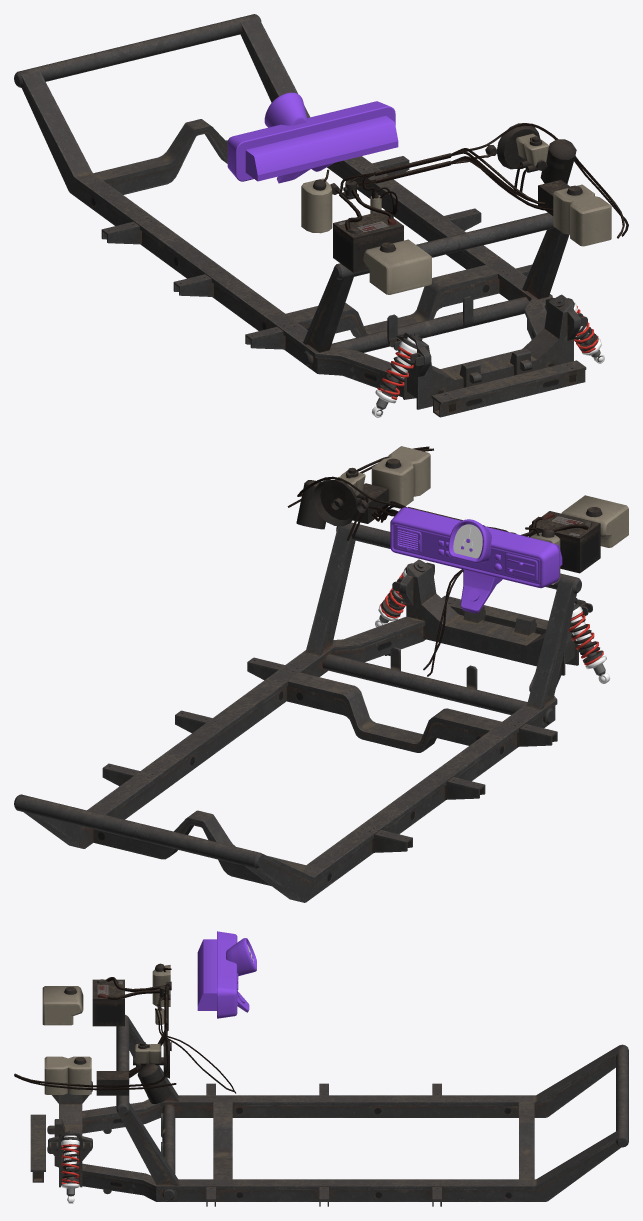
Rendered from UCP_Pigeon.dae.
3 renders of one model, top to bottom at view 1: azimuth 30°, elevation 25°; view 2: azimuth 150°, elevation 25°; view 3: azimuth 270°, elevation 25°, orthographic. The views are drawn at different scales.
Visible parts, largest first — view 1: pigeon_frame, pigeon_engbay, pigeon_frame_4w, pigeon_dash, pigeon_coilover_F_race, pigeon_coilover_F_4w; view 2: pigeon_frame, pigeon_engbay, pigeon_frame_4w, pigeon_dash, pigeon_coilover_F_race, pigeon_coilover_F_4w, pigeon_gauges; view 3: pigeon_frame, pigeon_engbay, pigeon_frame_4w, pigeon_dash, pigeon_coilover_F_race, pigeon_coilover_F_4w.
Part boxes in pixels (<box>): pigeon_frame: <box>14,14,569,373</box>; pigeon_engbay: <box>301,123,628,294</box>; pigeon_frame_4w: <box>315,294,587,417</box>; pigeon_dash: <box>227,92,398,183</box>; pigeon_coilover_F_race: <box>371,302,604,417</box>; pigeon_coilover_F_4w: <box>376,298,602,416</box>; pigeon_frame: <box>14,522,581,902</box>; pigeon_engbay: <box>287,446,628,676</box>; pigeon_frame_4w: <box>332,559,592,699</box>; pigeon_dash: <box>390,507,562,613</box>; pigeon_coilover_F_race: <box>375,566,610,683</box>; pigeon_coilover_F_4w: <box>379,563,605,675</box>; pigeon_gauges: <box>453,524,482,558</box>; pigeon_frame: <box>116,1014,628,1206</box>; pigeon_engbay: <box>14,963,235,1103</box>; pigeon_frame_4w: <box>30,1081,160,1201</box>; pigeon_dash: <box>197,931,256,1018</box>; pigeon_coilover_F_race: <box>61,1135,79,1203</box>; pigeon_coilover_F_4w: <box>62,1130,79,1198</box>.
Size of what is drawn, in the model's own units: 1.09 by 2.38 by 0.8486.
Materials: 5 (1 with a texture image).
